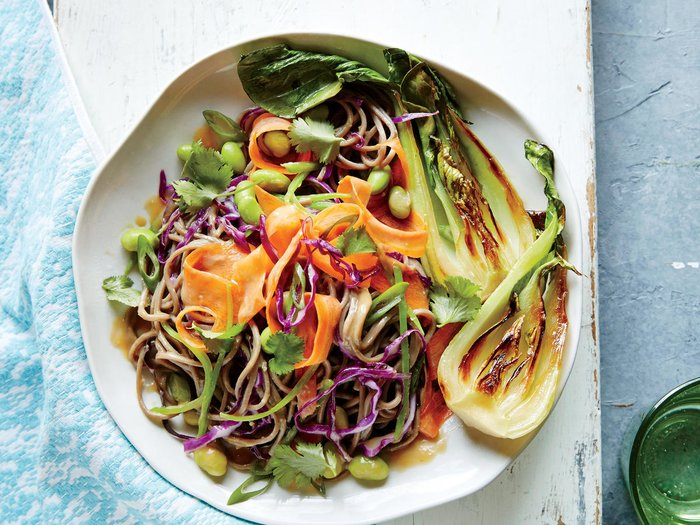Soba: (124, 243, 415, 494)
